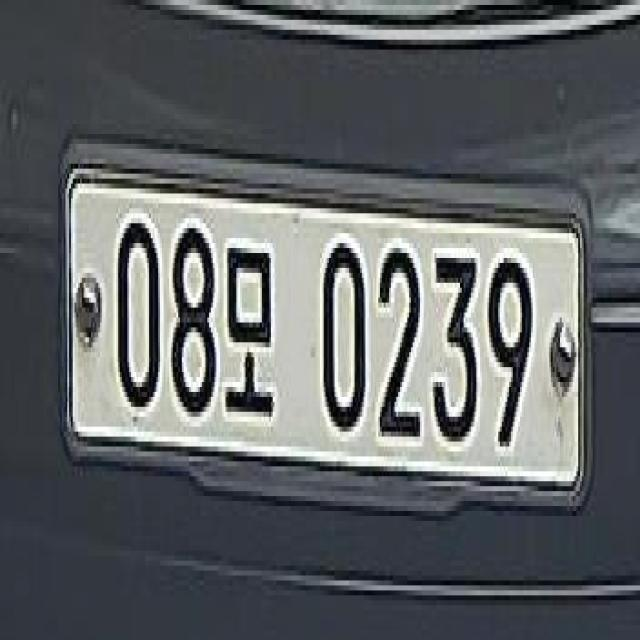illegal_plate: (65, 145, 592, 527)
